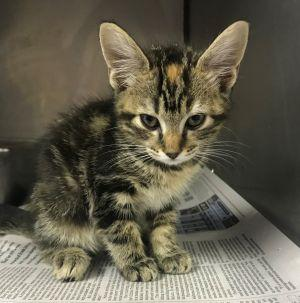bengal: (94, 19, 253, 174)
